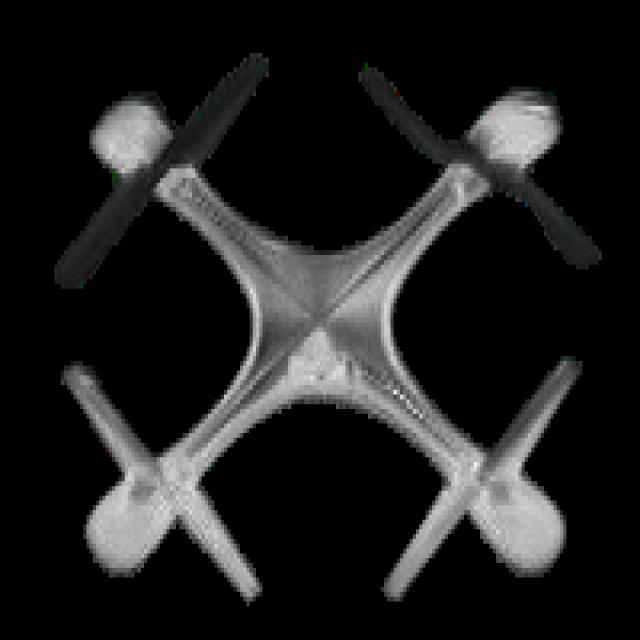drone: (55, 31, 592, 610)
